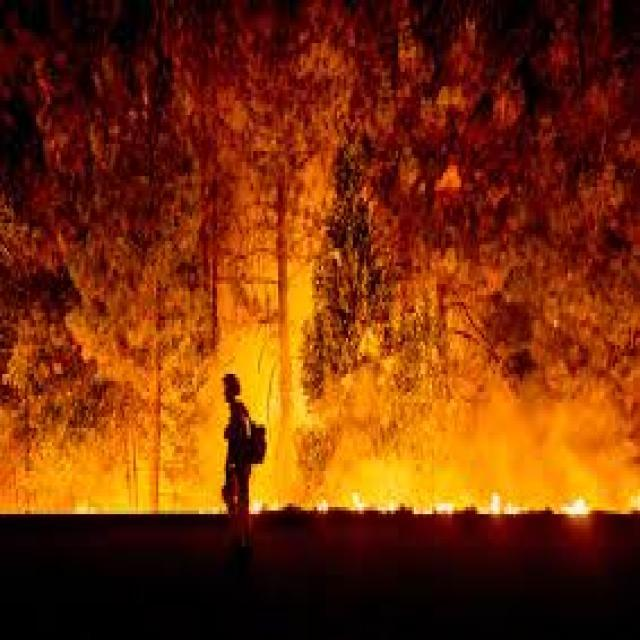Fire: (0, 247, 640, 548)
